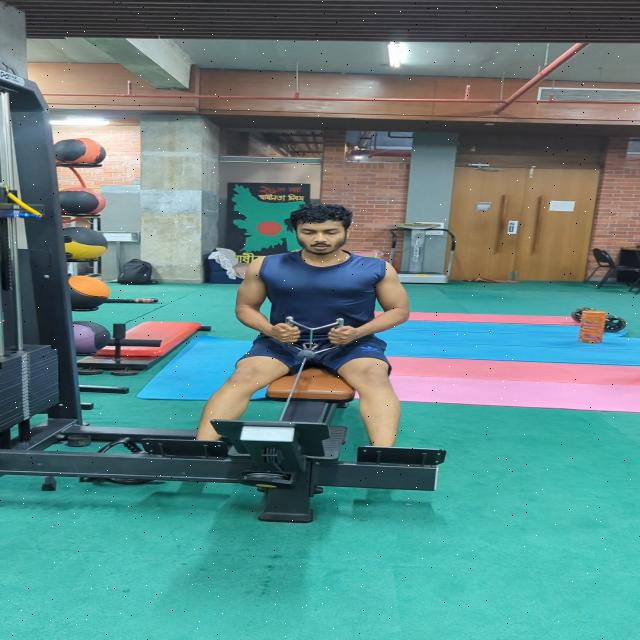Normal_RowingMachineExercise: (189, 200, 414, 449)
